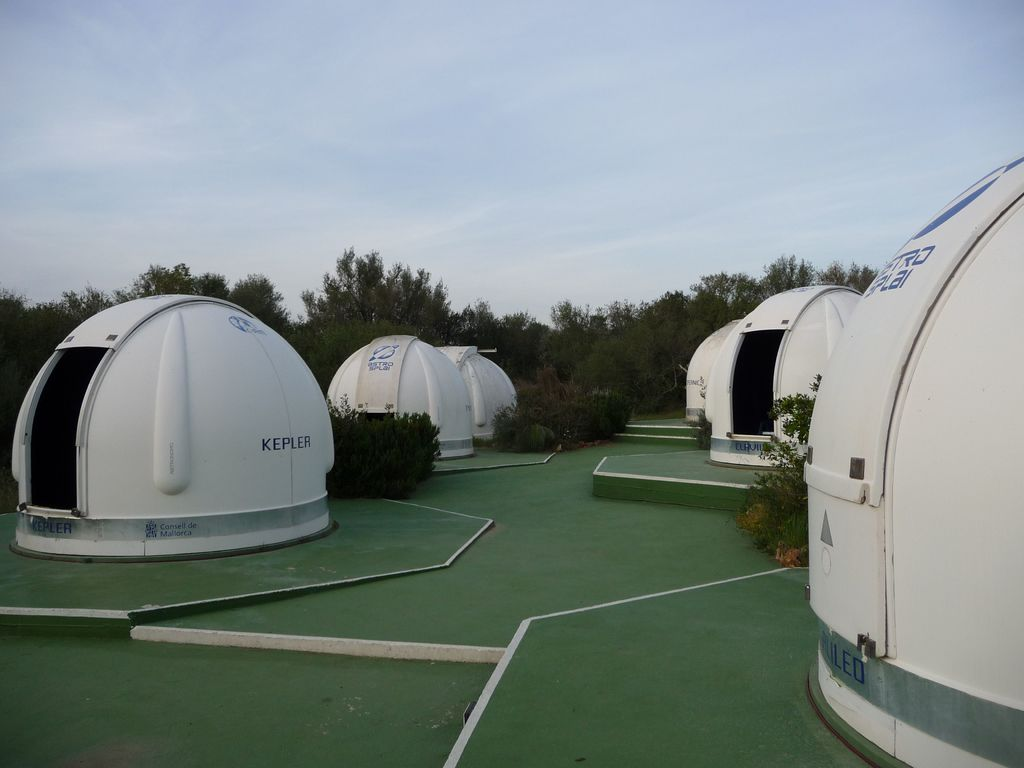Tree: (0, 247, 873, 479)
